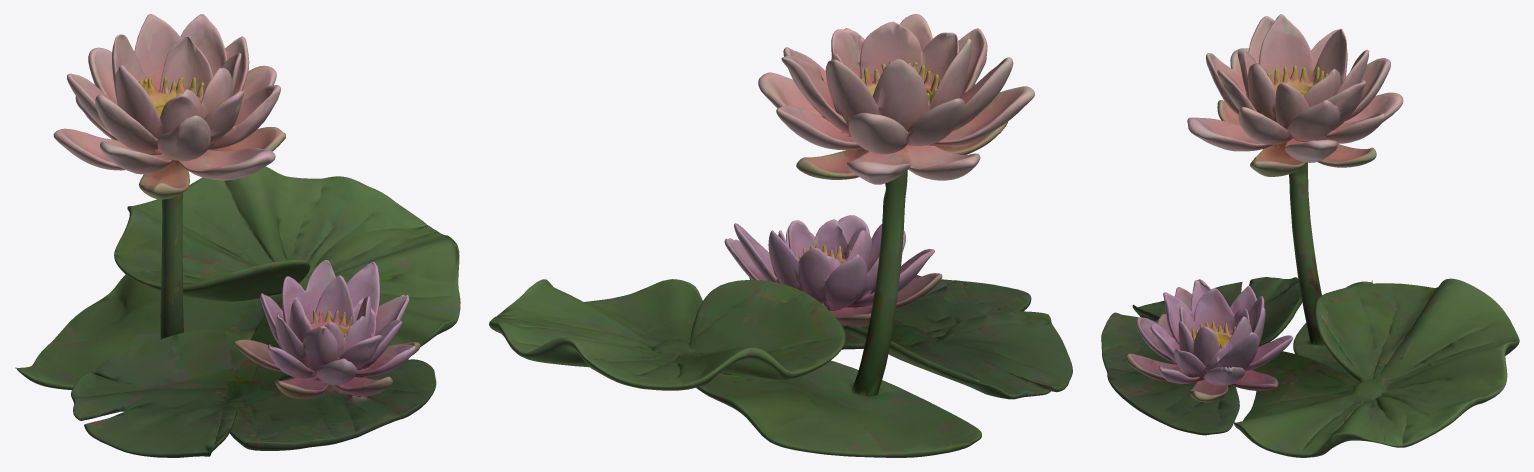
File: FenSeShuiLian.glb
3 renders of one model, left to right at view 1: azimuth 30°, elevation 25°; view 2: azimuth 150°, elevation 25°; view 3: azimuth 270°, elevation 25°, orthographic. The views are drawn at different scales.
Visible parts, largest first — view 1: tripo_node_bd3b154c-9d6e-4588-8be7-841378e8c393; view 2: tripo_node_bd3b154c-9d6e-4588-8be7-841378e8c393; view 3: tripo_node_bd3b154c-9d6e-4588-8be7-841378e8c393.
Part boxes in pixels (bbox=[...]): tripo_node_bd3b154c-9d6e-4588-8be7-841378e8c393: bbox=[15, 14, 460, 457]; tripo_node_bd3b154c-9d6e-4588-8be7-841378e8c393: bbox=[489, 14, 1072, 457]; tripo_node_bd3b154c-9d6e-4588-8be7-841378e8c393: bbox=[1101, 14, 1519, 457].
Bounding box in the file's own units: 0.98 × 0.7426 × 0.9147.
1 material, 1 textured.
